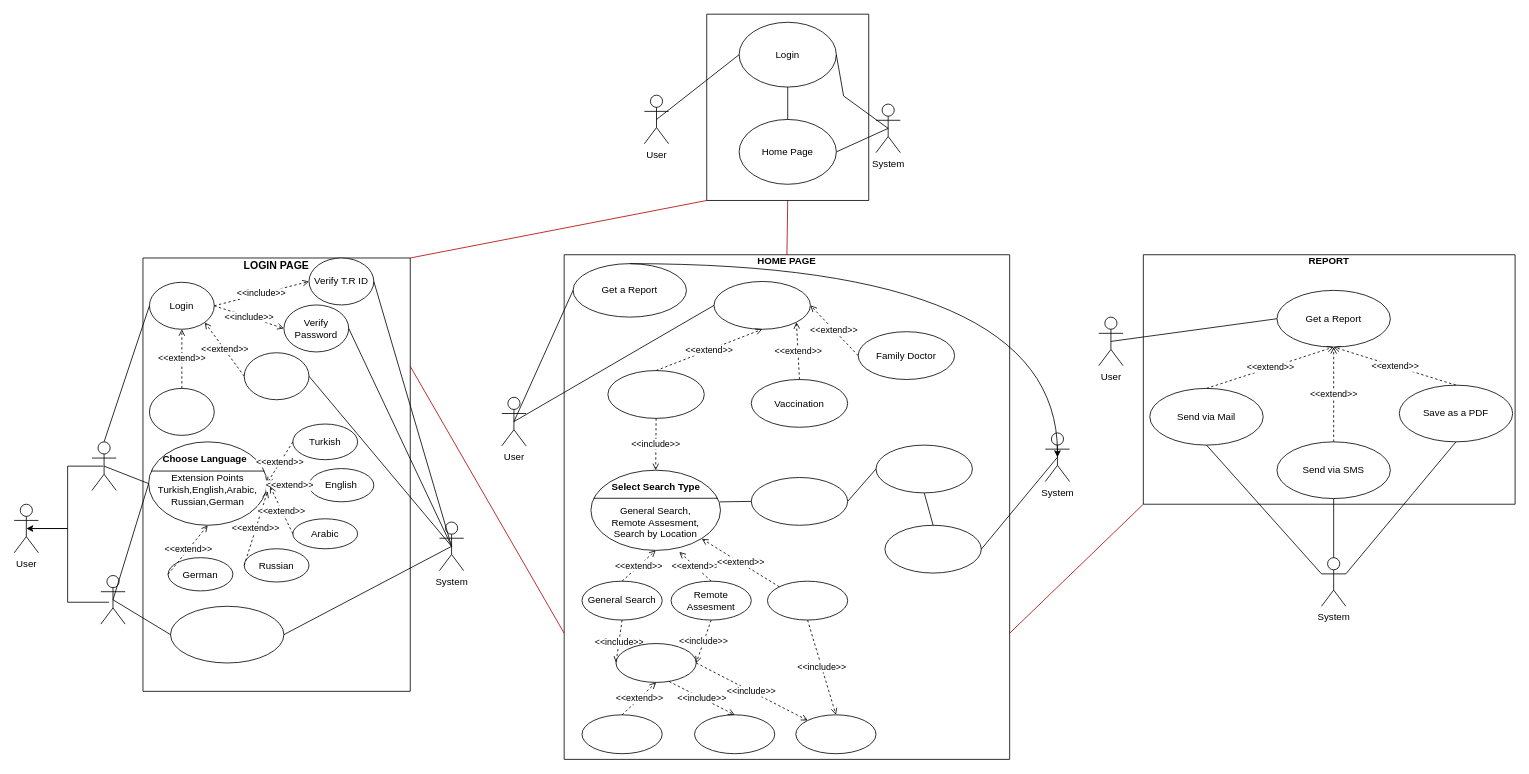
Image size: 1529x774. Some labels were removed from this diagram. Here are the shapes that lost their labels. From the top down, the centre of each, then its label:
point 761,305: Make a Appointment
point 276,376: Display Error
point 655,394: Hospital
point 181,411: Login with e-Government
point 103,465: Registered User
point 923,468: Choose a Doctor
point 799,501: Choose a Hospital
point 932,548: Approve Appointment
point 112,599: New User
point 807,600: by Location
point 227,634: Sign up
point 655,662: Fill the Form
point 621,734: Choose Others
point 734,734: Choose City
point 835,734: Choose Clinic
